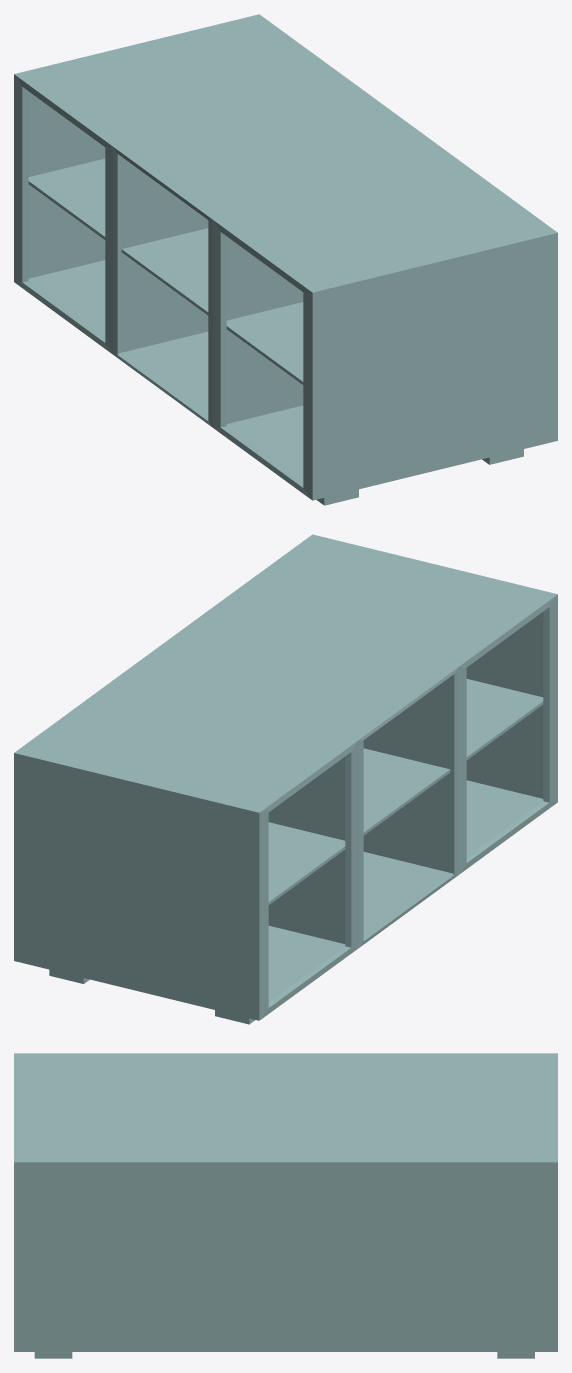
File: NoDoorsTvStand.fbx
The picture shows the model from 3 angles, top to bottom: view 1: azimuth 30°, elevation 25°; view 2: azimuth 150°, elevation 25°; view 3: azimuth 270°, elevation 25°; orthographic projection. The views are drawn at different scales.
Visible parts, largest first — view 1: Cube.005; view 2: Cube.005; view 3: Cube.005.
Part boxes in pixels (bbox=[...]): Cube.005: bbox=[14, 14, 557, 505]; Cube.005: bbox=[14, 534, 557, 1024]; Cube.005: bbox=[14, 1053, 557, 1358].
Size of the model in its own units: 66.46 by 58.5 by 140.
